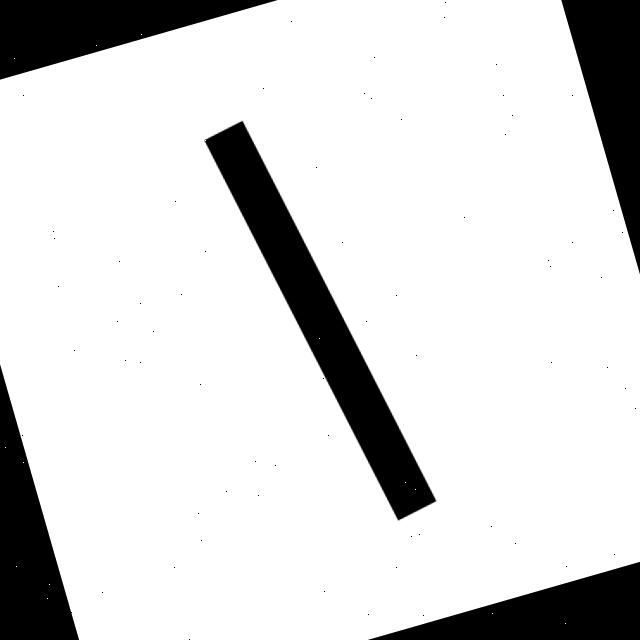line: (204, 120, 435, 520)
